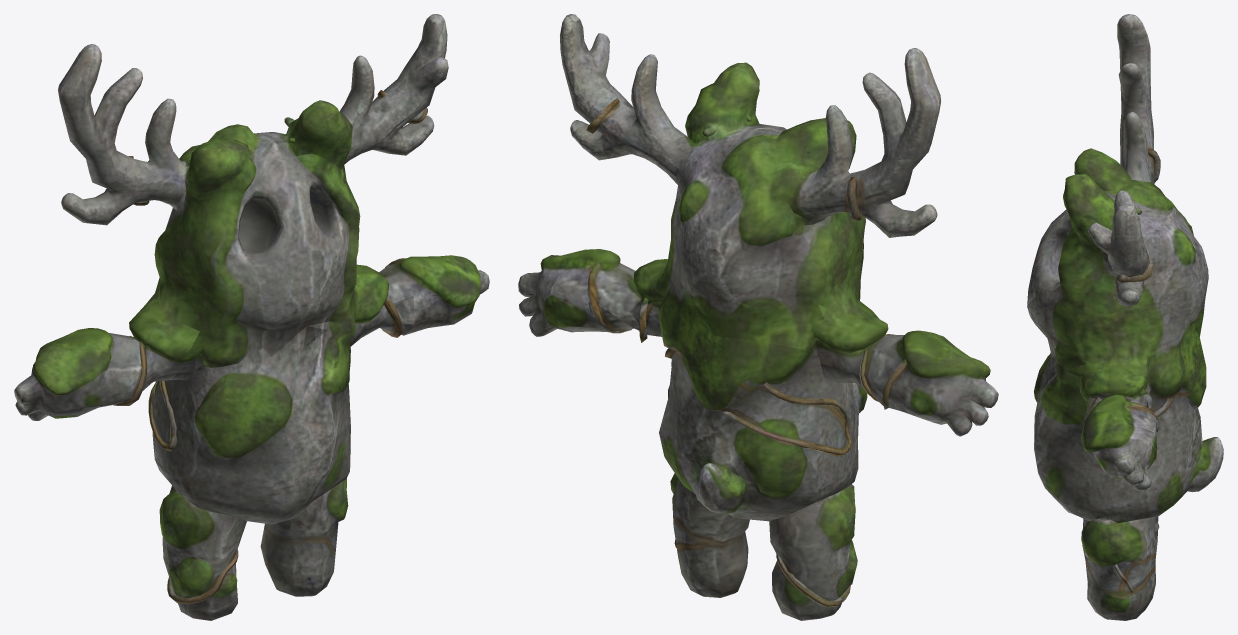
The model's file is godi.fbx.
3 views of the same model, side by side, from view 1: azimuth 30°, elevation 25°; view 2: azimuth 150°, elevation 25°; view 3: azimuth 270°, elevation 25° (orthographic). The views are drawn at different scales.
Visible parts, largest first — view 1: tripo_part_0, tripo_part_new_0, tripo_part_6, tripo_part_1, tripo_part_4, tripo_part_5, tripo_part_3, tripo_part_12, tripo_part_8, tripo_part_22; view 2: tripo_part_0, tripo_part_new_0, tripo_part_6, tripo_part_1, tripo_part_4, tripo_part_3, tripo_part_5, tripo_part_12, tripo_part_8, tripo_part_22; view 3: tripo_part_0, tripo_part_new_0, tripo_part_6, tripo_part_5, tripo_part_3, tripo_part_12.
Boxes of the visible parts, x1,y1,x2,y2 form: tripo_part_0: (129, 100, 388, 370); tripo_part_new_0: (151, 315, 355, 524); tripo_part_6: (58, 14, 448, 225); tripo_part_1: (14, 328, 159, 420); tripo_part_4: (159, 485, 246, 620); tripo_part_5: (260, 478, 348, 596); tripo_part_3: (379, 255, 489, 335); tripo_part_12: (113, 90, 427, 604); tripo_part_8: (137, 340, 203, 381); tripo_part_22: (350, 296, 414, 346); tripo_part_0: (630, 62, 888, 352); tripo_part_new_0: (655, 276, 867, 521); tripo_part_6: (560, 14, 941, 237); tripo_part_1: (863, 330, 998, 436); tripo_part_4: (769, 484, 857, 620); tripo_part_3: (518, 249, 648, 336); tripo_part_5: (670, 473, 749, 597); tripo_part_12: (586, 98, 906, 607); tripo_part_8: (813, 330, 887, 388); tripo_part_22: (601, 302, 661, 336); tripo_part_0: (1027, 148, 1208, 405); tripo_part_new_0: (1034, 327, 1223, 523); tripo_part_6: (1088, 14, 1154, 306); tripo_part_5: (1081, 516, 1159, 620); tripo_part_3: (1081, 394, 1156, 490); tripo_part_12: (1082, 148, 1173, 593).
Bounding box in the file's own units: 0.8359 × 1 × 0.3474.
Materials: 10 (10 with a texture image).
